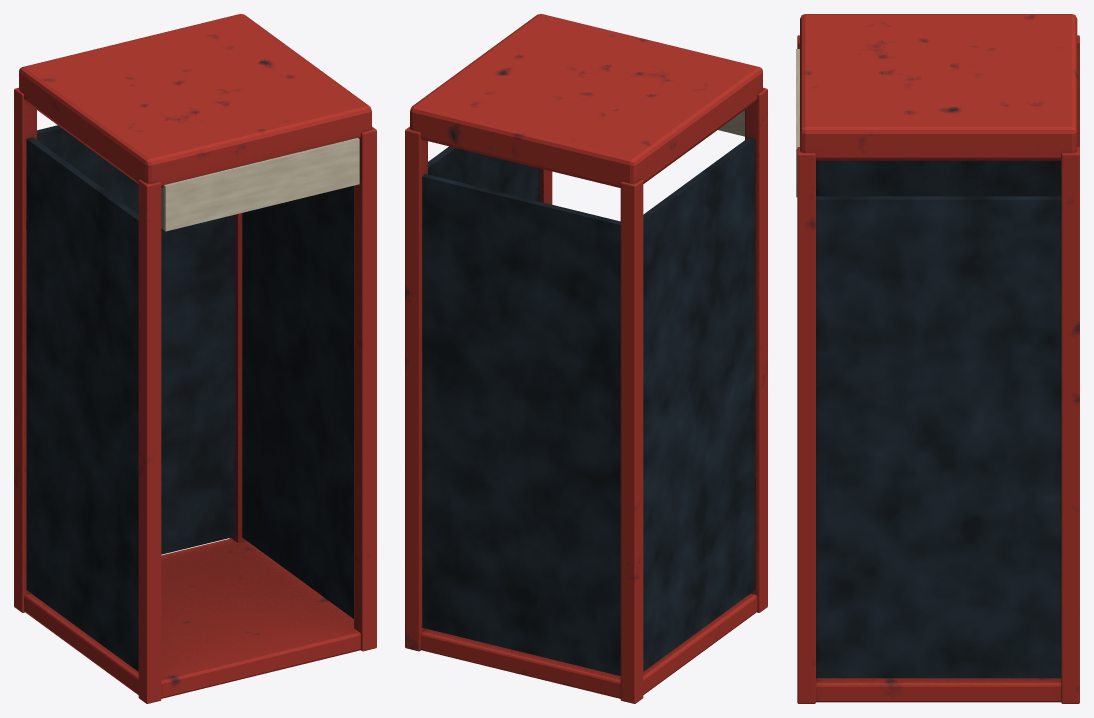
Rendered from city_phone_booth.glb.
The picture shows the model from 3 angles, left to right: view 1: azimuth 30°, elevation 25°; view 2: azimuth 150°, elevation 25°; view 3: azimuth 270°, elevation 25°; orthographic projection. The views are drawn at different scales.
Parts seen in each view (by area): view 1: city_phone_booth; view 2: city_phone_booth; view 3: city_phone_booth.
Boxes of the visible parts, x1,y1,x2,y2 form: city_phone_booth: (14, 14, 376, 703); city_phone_booth: (405, 14, 767, 703); city_phone_booth: (796, 14, 1079, 703).
Bounding box in the file's own units: 1.07 × 2.4 × 1.07.
3 materials, 3 textured.
